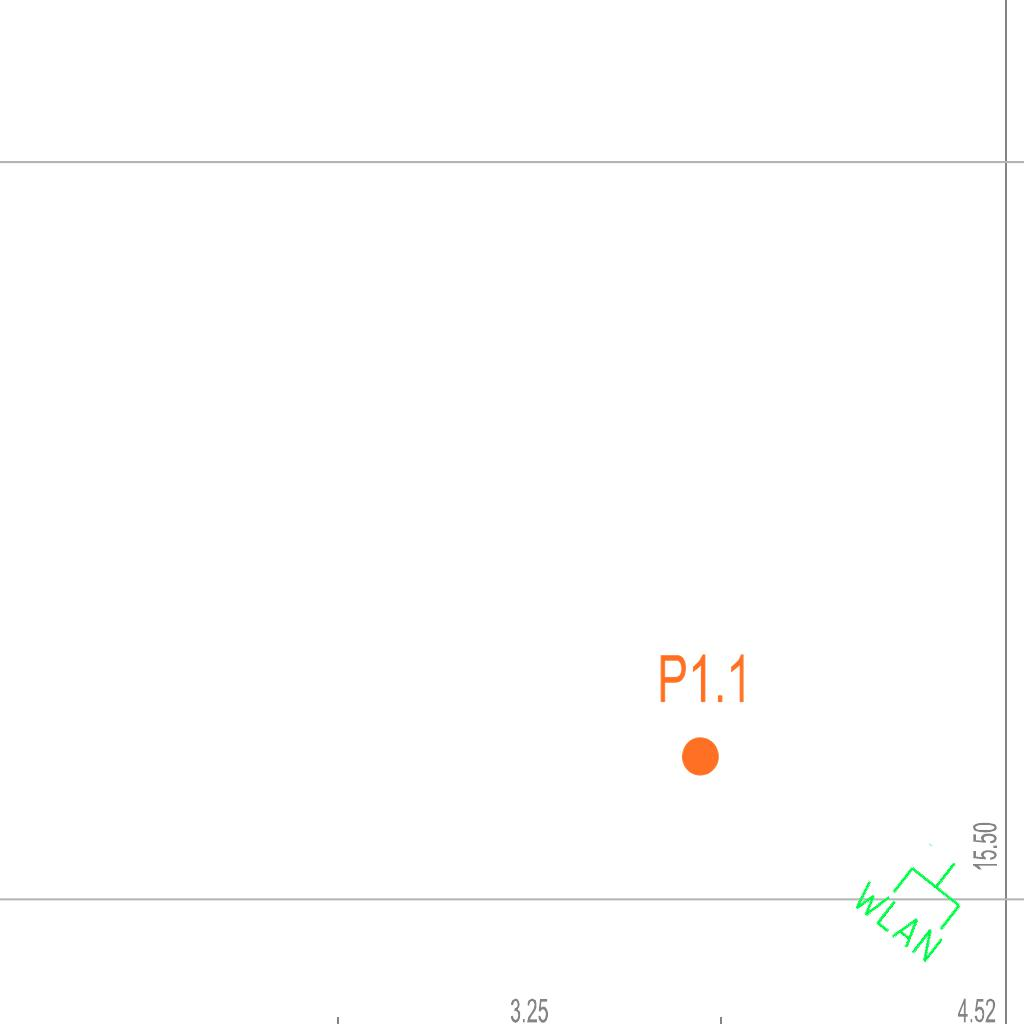Downlight_LED_Einbauleuchten_Flur: (657, 651, 750, 779)
WLAN: (843, 822, 991, 969)
